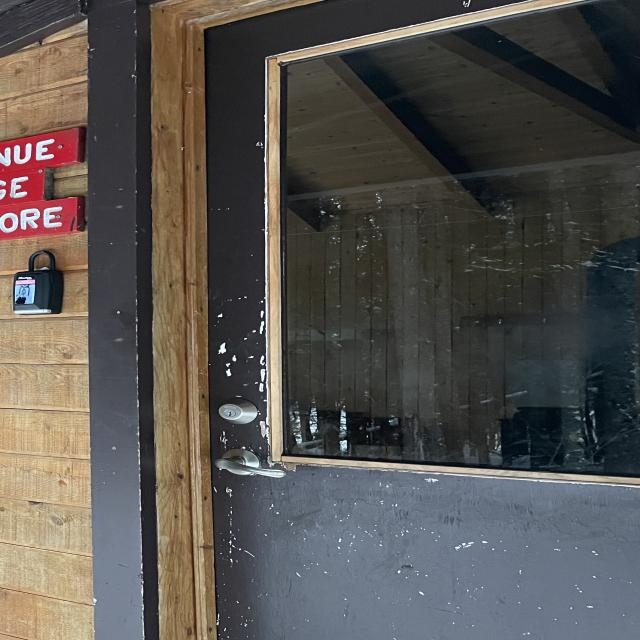door-handle: (214, 449, 285, 478)
